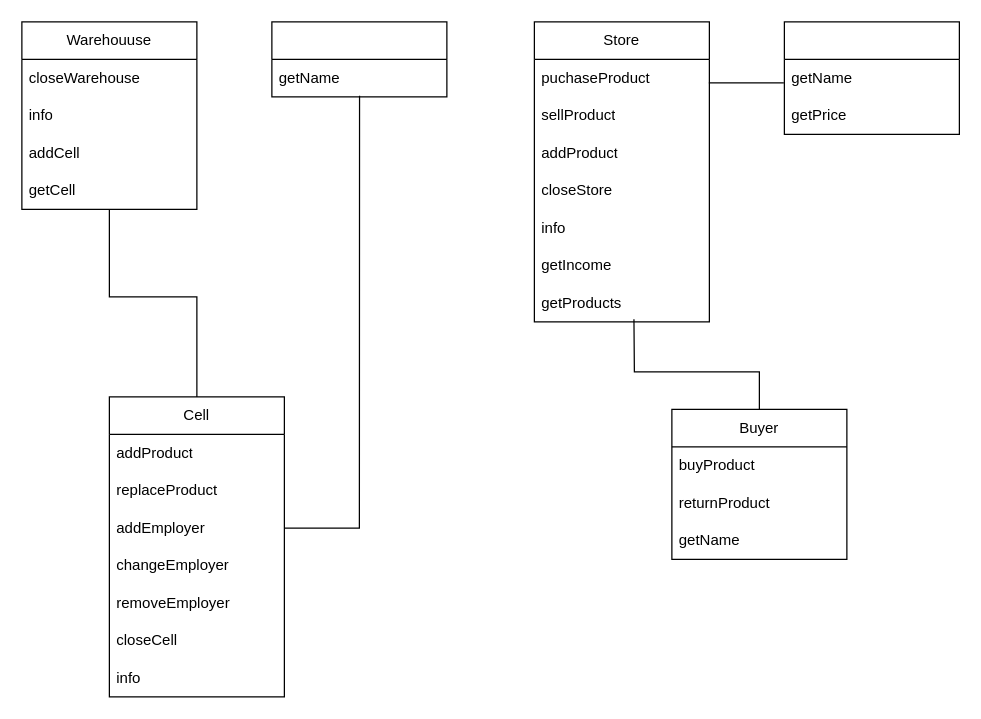
Some shapes in this 981 by 719 pixel diagram are drawn without their labels. The shapes that lost their labels are listed below. From the top down, each one's box as (x1, y1, x2, y2) in pixels, then its label:
(271, 21, 447, 97): Employer
(783, 21, 959, 134): Product
